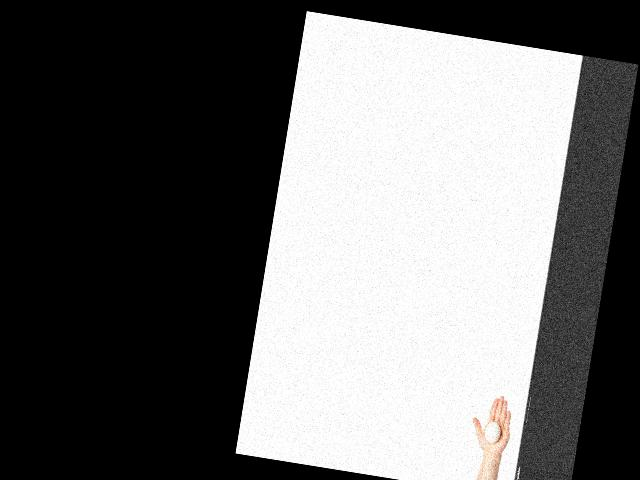egg: (484, 420, 501, 443)
